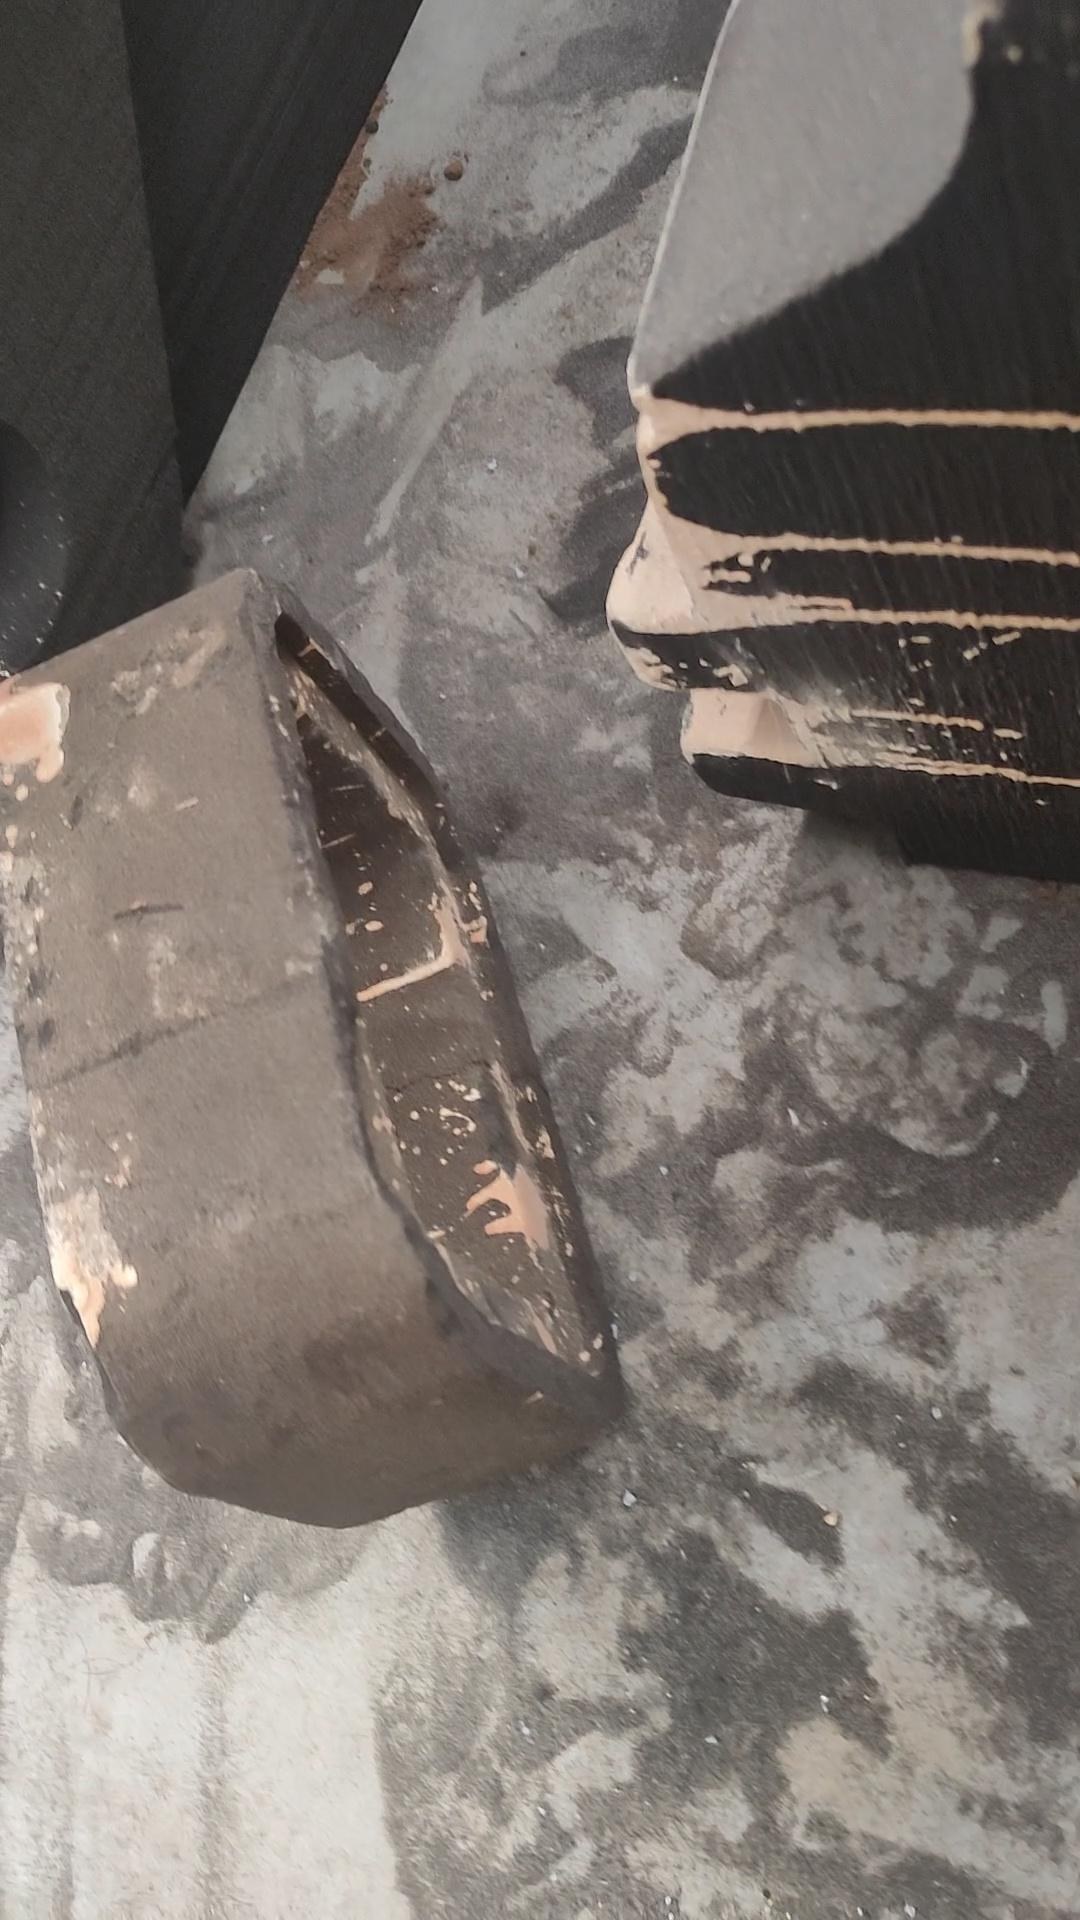pouring hole: (1, 419, 73, 662)
